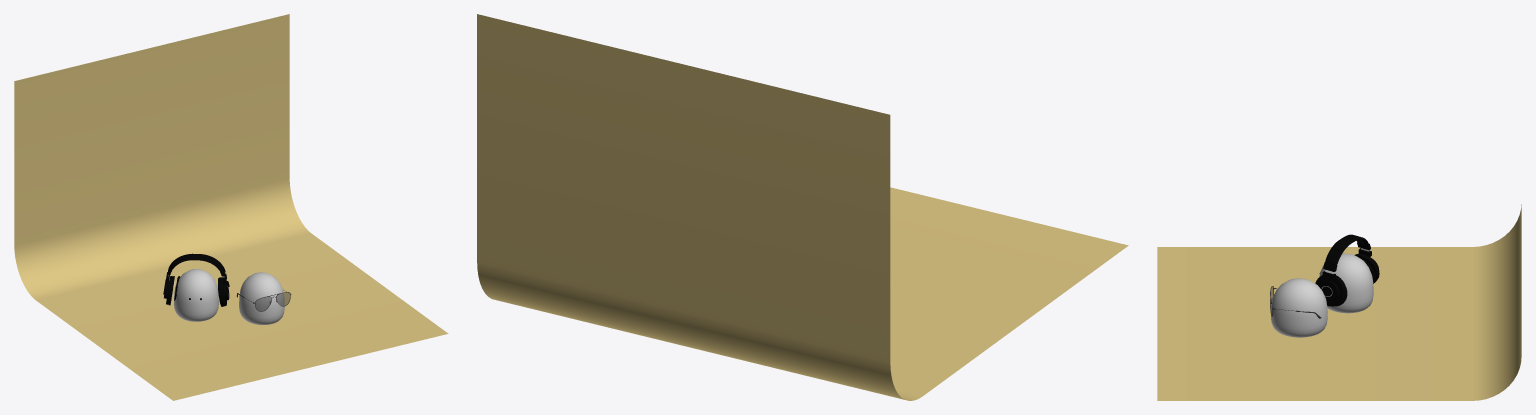
Rendered from igris.gltf.
3 renders of one model, left to right at view 1: azimuth 30°, elevation 25°; view 2: azimuth 150°, elevation 25°; view 3: azimuth 270°, elevation 25°, orthographic. The views are drawn at different scales.
Visible parts, largest first — view 1: Plane, Sphere.003, Sphere, Object_9, Lens; view 2: Plane; view 3: Plane, Sphere.003, Sphere, Object_9.
Boxes of the visible parts, x1,y1,x2,y2 form: Plane: (14,14,448,400); Sphere.003: (239,272,284,324); Sphere: (174,269,218,321); Object_9: (163,253,229,306); Lens: (236,290,291,311); Plane: (477,14,1128,400); Plane: (1157,204,1521,400); Sphere.003: (1271,278,1327,337); Sphere: (1319,253,1373,313); Object_9: (1315,234,1379,306).
Bounding box in the file's own units: 30 × 21.18 × 30.
